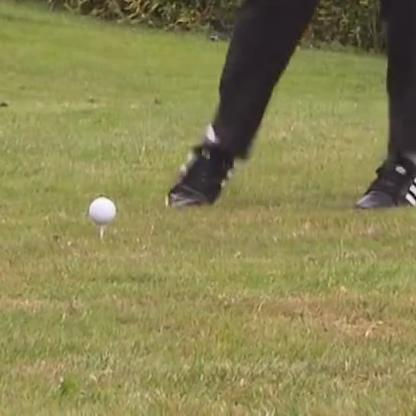golfball: (86, 195, 114, 223)
